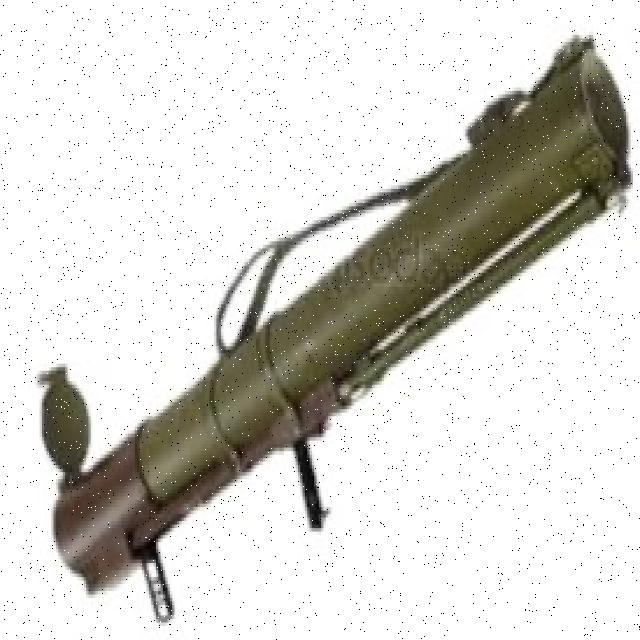bazooka: (23, 24, 637, 635)
